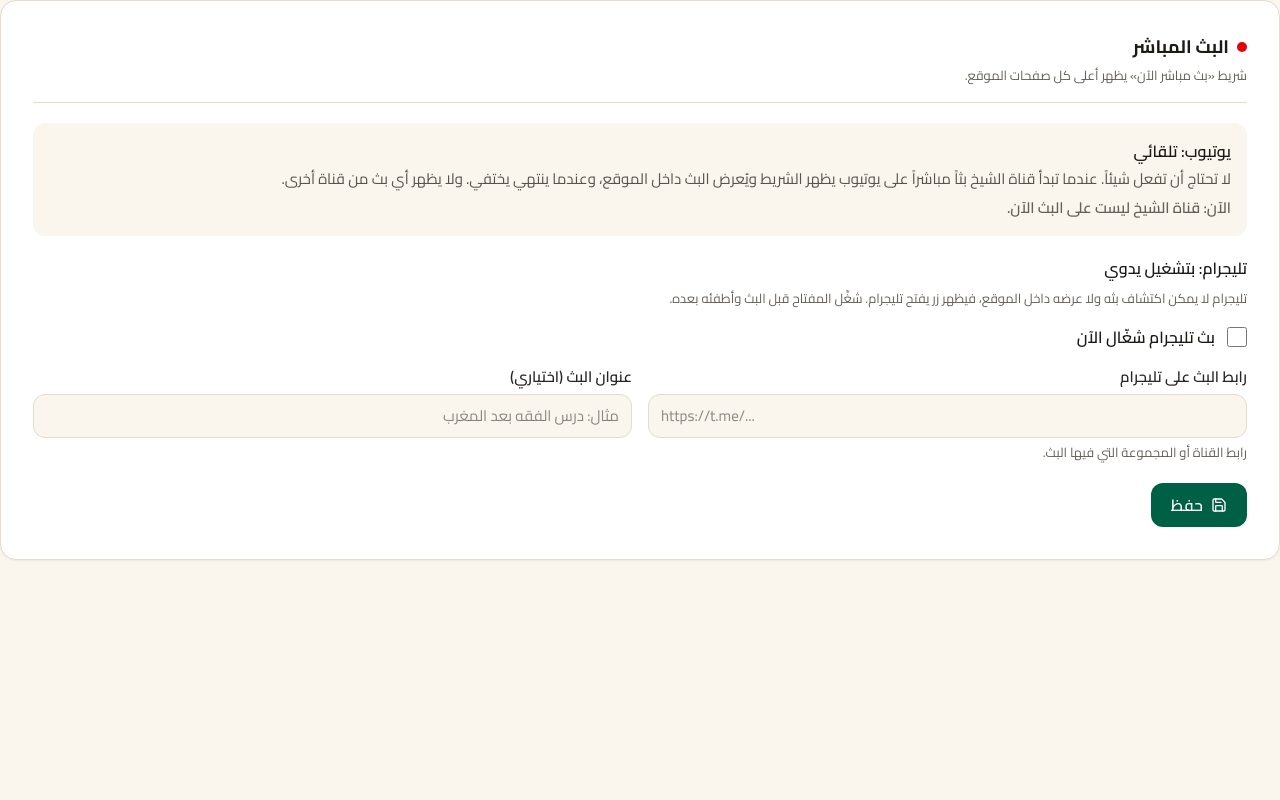
Test: LiveStreamSettings › shows the refusal message from the save rule
The image size is (1280, 800).
Check: the field labelled "رابط البث على تليجرام" is shown, box [648, 394, 1247, 438]
Click the button "حفظ". click: point(1199, 505)
box: [1151, 483, 1247, 527]
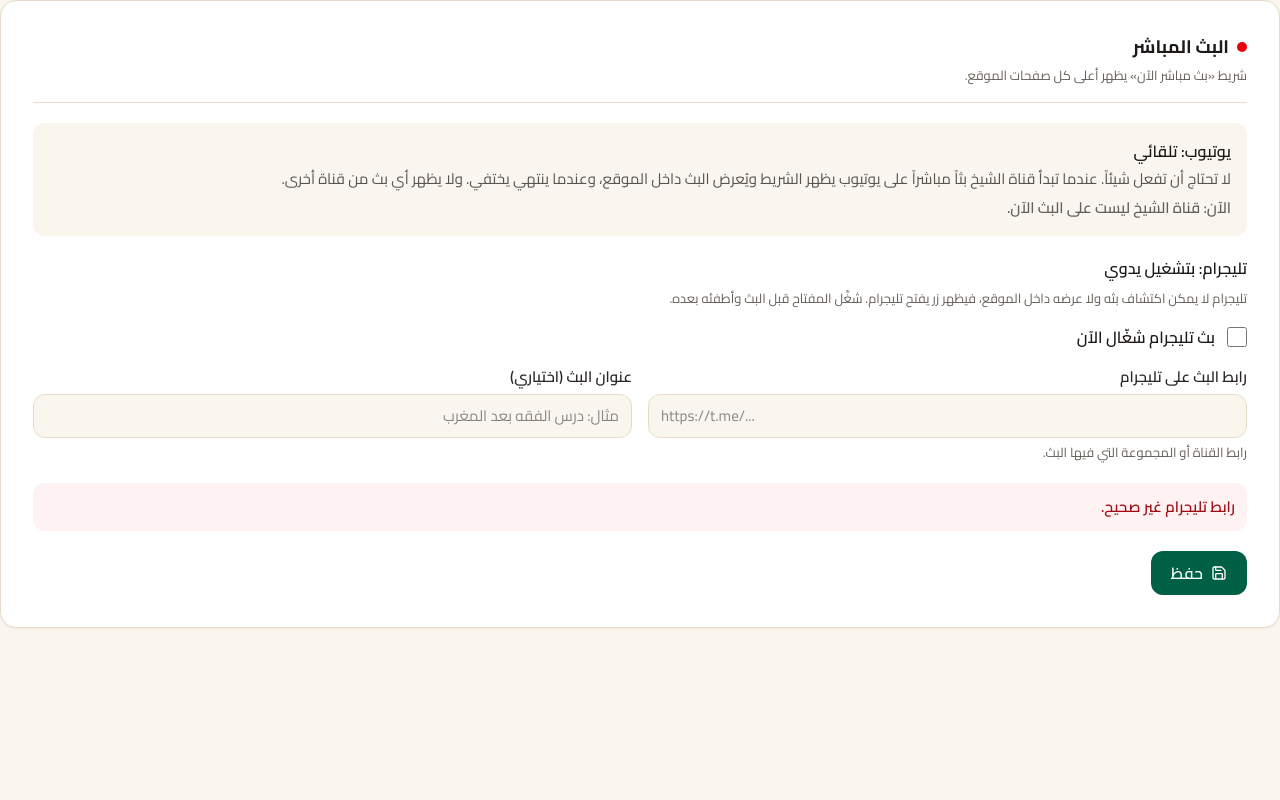
Check: the message "رابط تليجرام غير صحيح." is shown, box [33, 483, 1247, 531]
